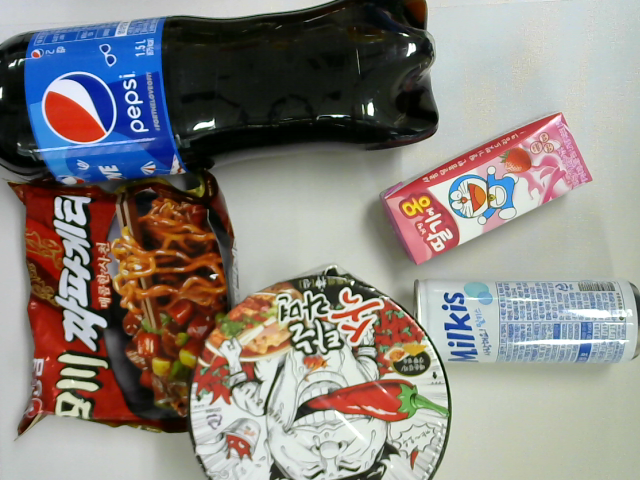HeJangsock: (187, 266, 453, 469)
Milkies_250ml: (412, 278, 640, 366)
Pepsi_Cola_1.5L: (1, 1, 441, 180)
Sichuan_Chapaghetti: (8, 171, 237, 437)
Strawberry_E_Mong: (378, 110, 596, 267)
